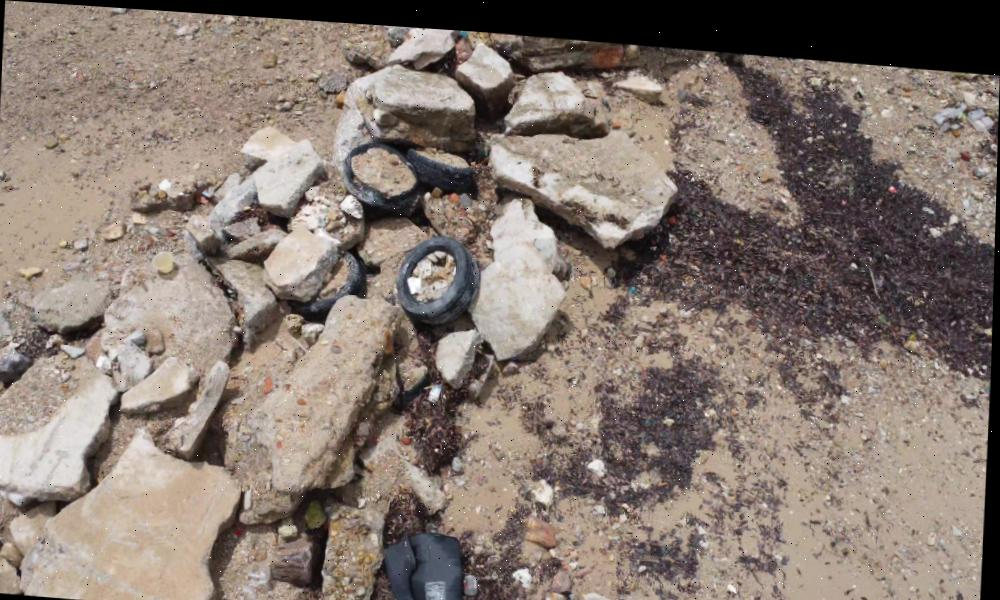tire: (394, 226, 483, 316), (341, 131, 418, 203), (405, 131, 480, 184), (319, 231, 368, 309)
